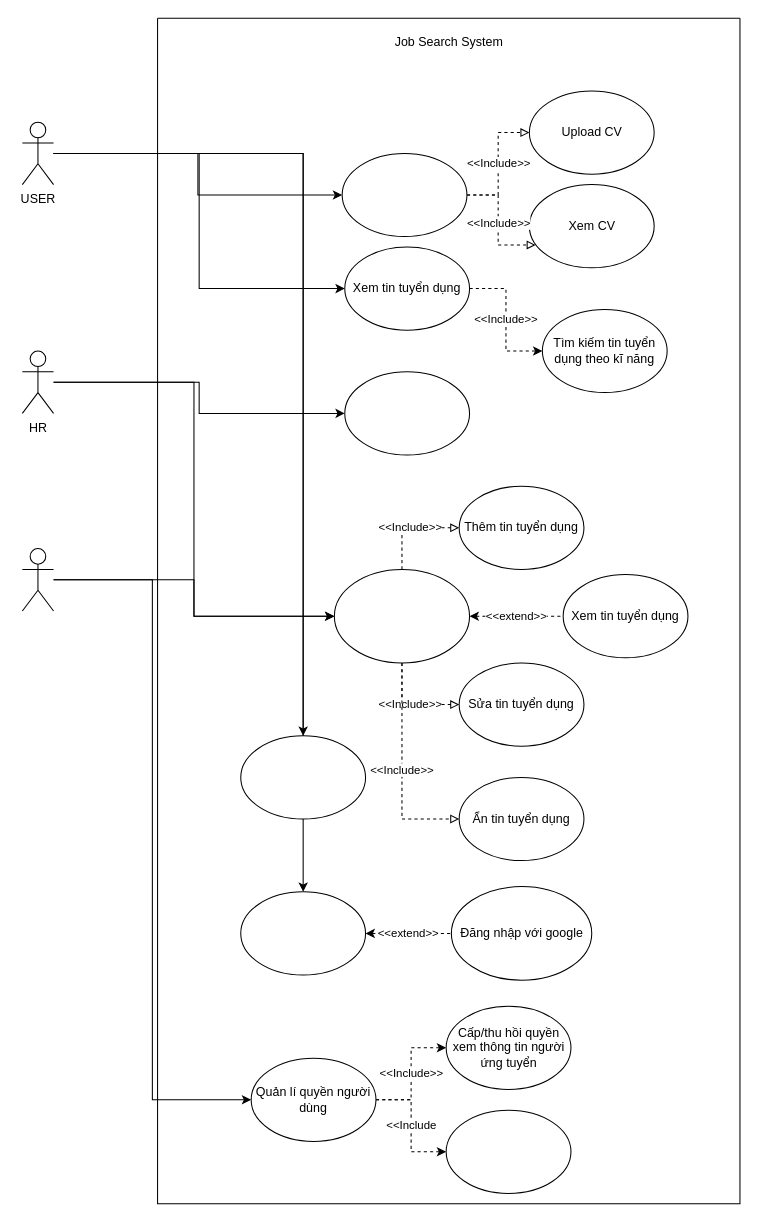
Some shapes in this 758 by 1222 pixel diagram are drawn without their labels. The shapes that lost their labels are listed below. From the top down, each one's box as (x1, y1, x2, y2) in pixels, then its label:
(341, 152, 467, 237): Quản lí CV
(344, 371, 470, 455): Xem CV ứng viên
(21, 548, 54, 611): ADMIN
(333, 568, 470, 663): Quản lí tin đăng tuyển dụng
(240, 735, 366, 819): Đăng ký
(240, 891, 366, 975): Đăng nhập
(445, 1109, 571, 1193): Cấp/thu hồi quyền tạo tin đăng tuyển dụng
